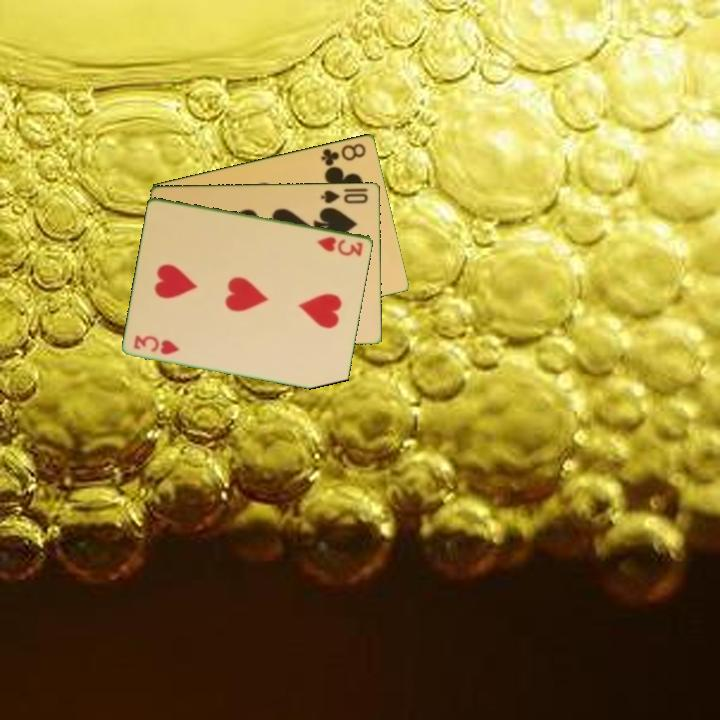10s: (318, 187, 371, 206)
3h: (314, 233, 366, 259), (131, 331, 183, 357)
8c: (317, 139, 369, 169)
